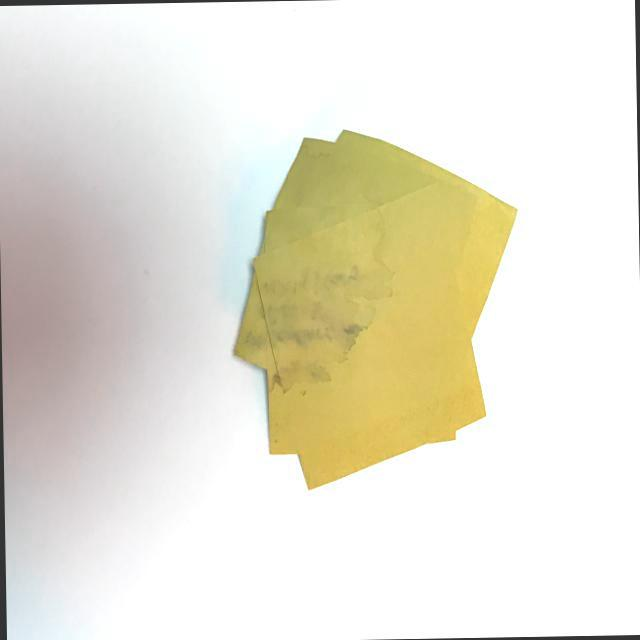paper: (206, 122, 544, 504)
